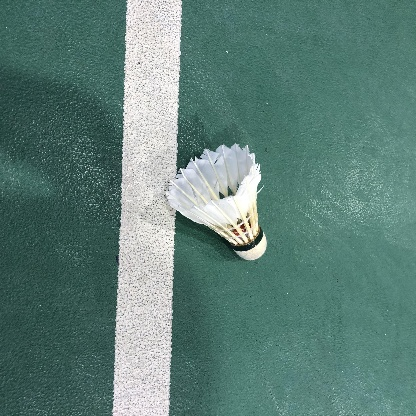ball_single: (166, 143, 267, 260)
